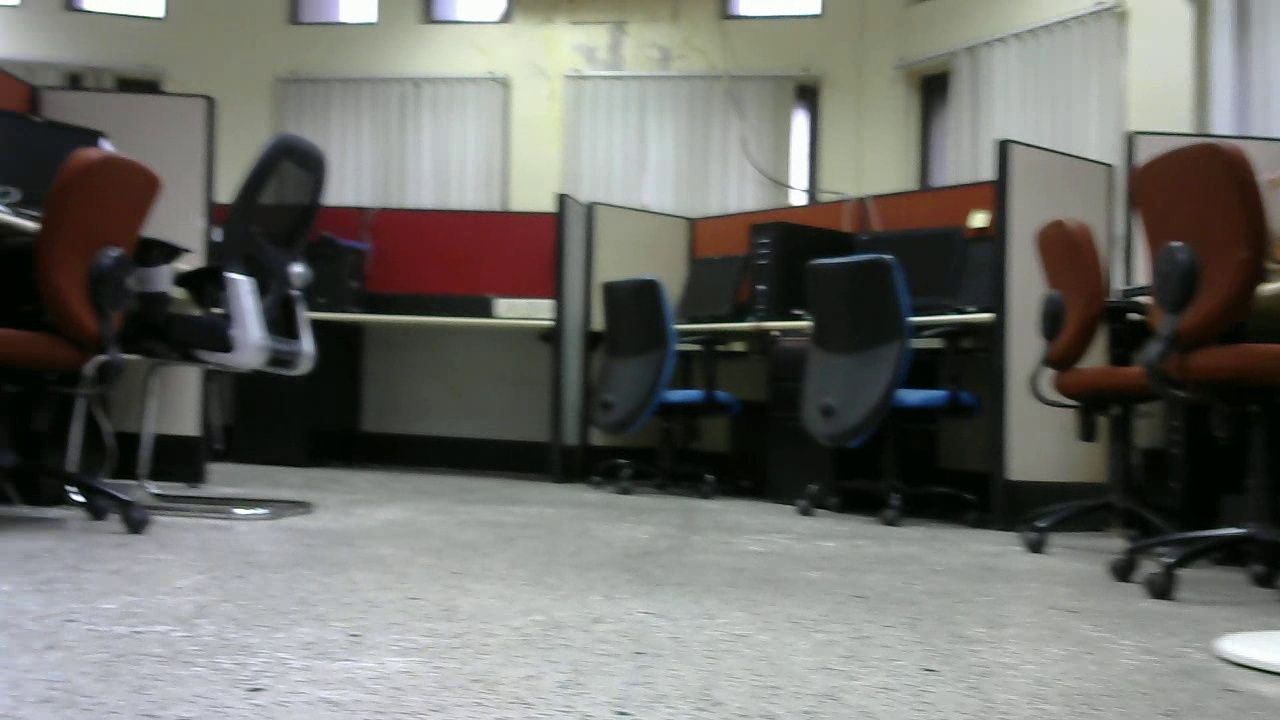chair: (167, 130, 328, 518), (2, 144, 154, 531), (1027, 214, 1183, 568), (790, 256, 986, 530), (586, 278, 753, 493)
